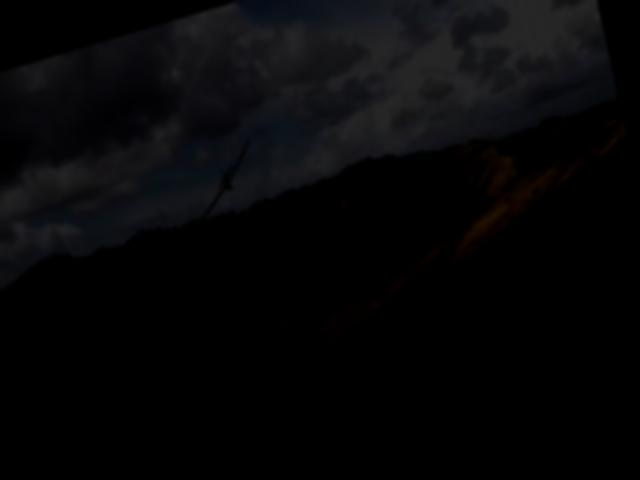iha: (174, 139, 267, 229)
